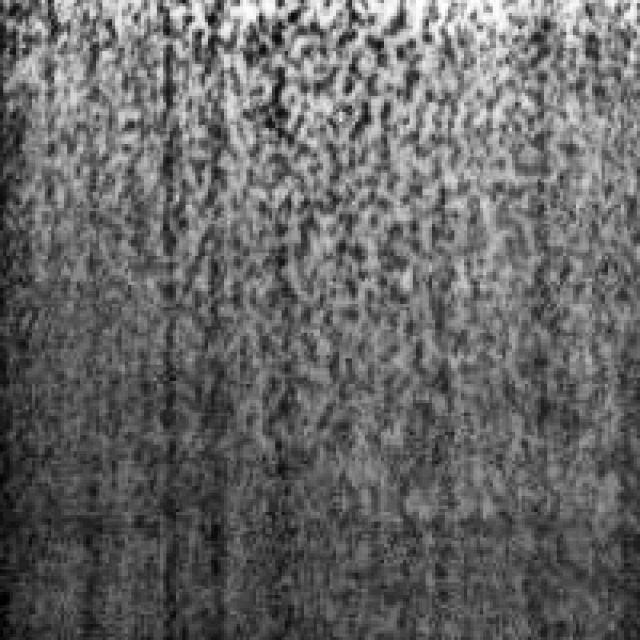Rolled_in_Scale: (3, 6, 630, 406)
